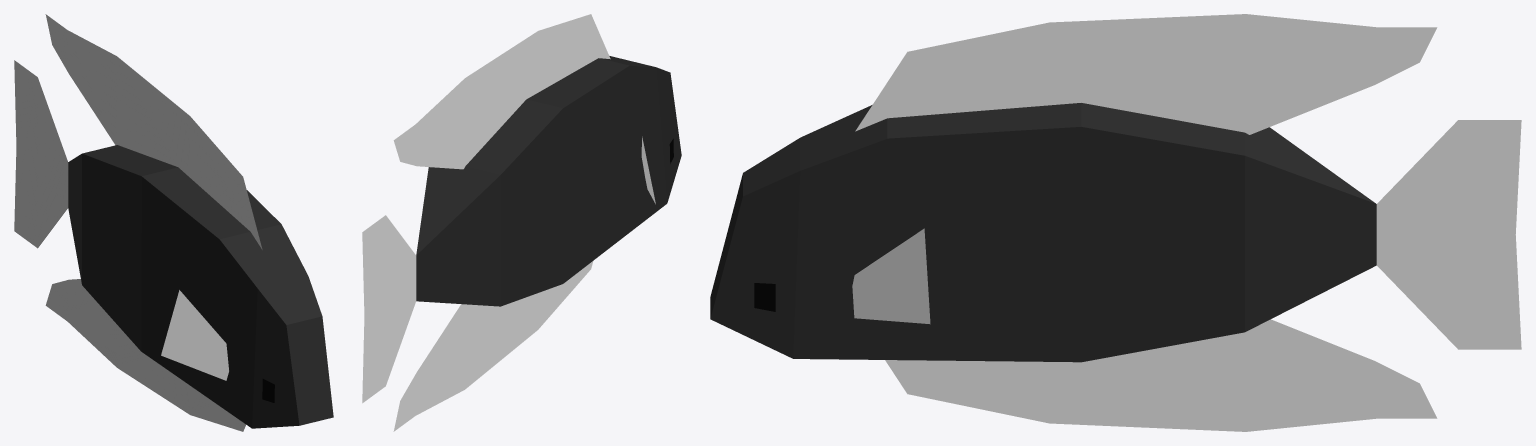
File: 02angelfishlong.fbx
The picture shows the model from 3 angles, left to right: view 1: azimuth 30°, elevation 25°; view 2: azimuth 150°, elevation 25°; view 3: azimuth 270°, elevation 25°; orthographic projection. The views are drawn at different scales.
Visible parts, largest first — view 1: Tropical Fish 02; view 2: Tropical Fish 02; view 3: Tropical Fish 02.
Boxes of the visible parts, x1,y1,x2,y2 form: Tropical Fish 02: (14,14,333,431); Tropical Fish 02: (362,14,681,431); Tropical Fish 02: (710,14,1521,431).
Size of the model in its own units: 69.7 by 141 by 248.
